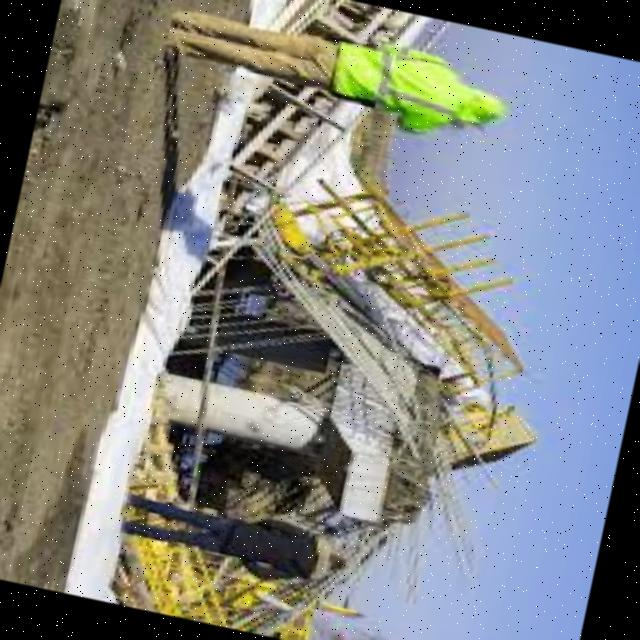bridge collapse: (123, 96, 610, 640)
